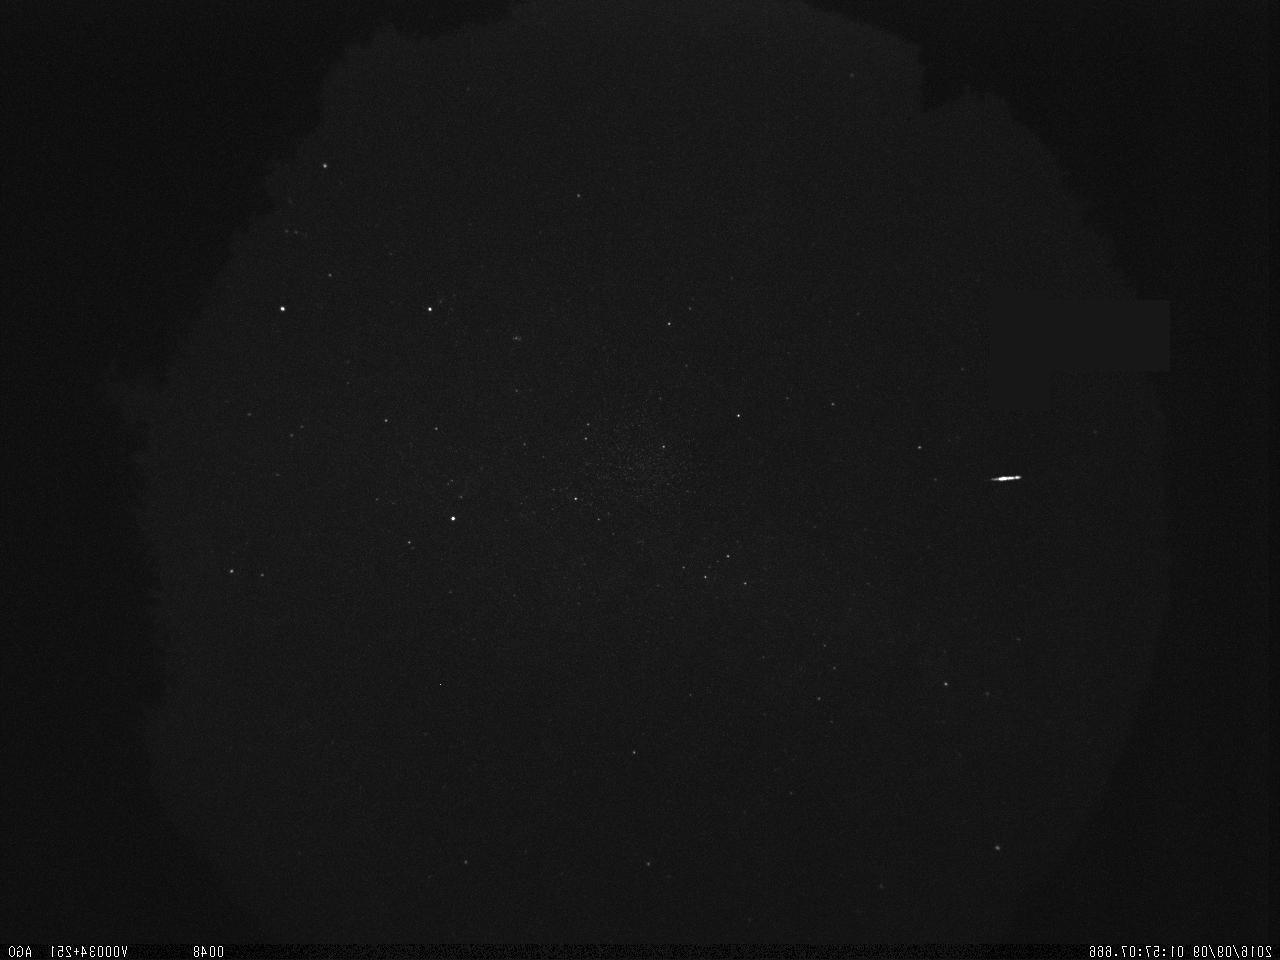meteor: (973, 467, 1027, 490)
